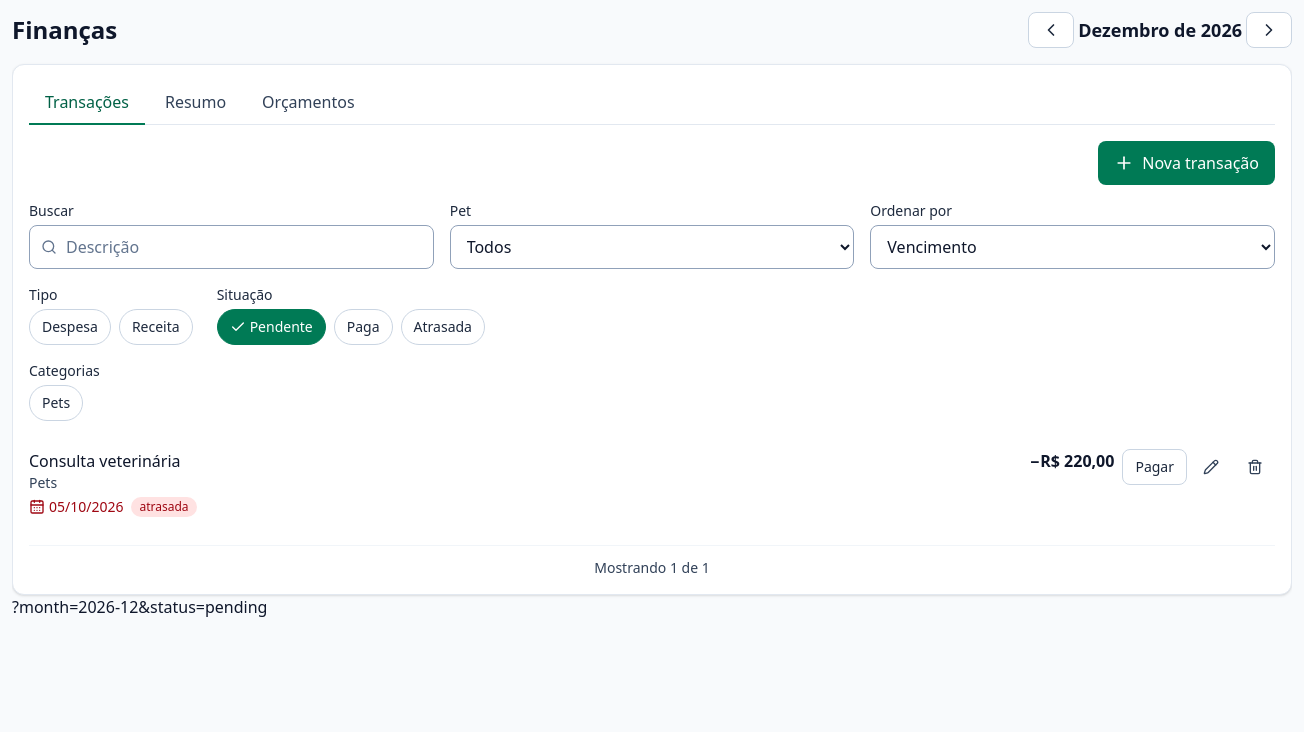
Scenario: FinancePage › changing the month updates the URL and the query
This screenshot has width=1304, height=732.
Check: the text "Dezembro de 2026" is shown, box [1078,16,1242,44]
Click the button named "Próximo mês" at [1269, 30], box [1246,12,1292,48]
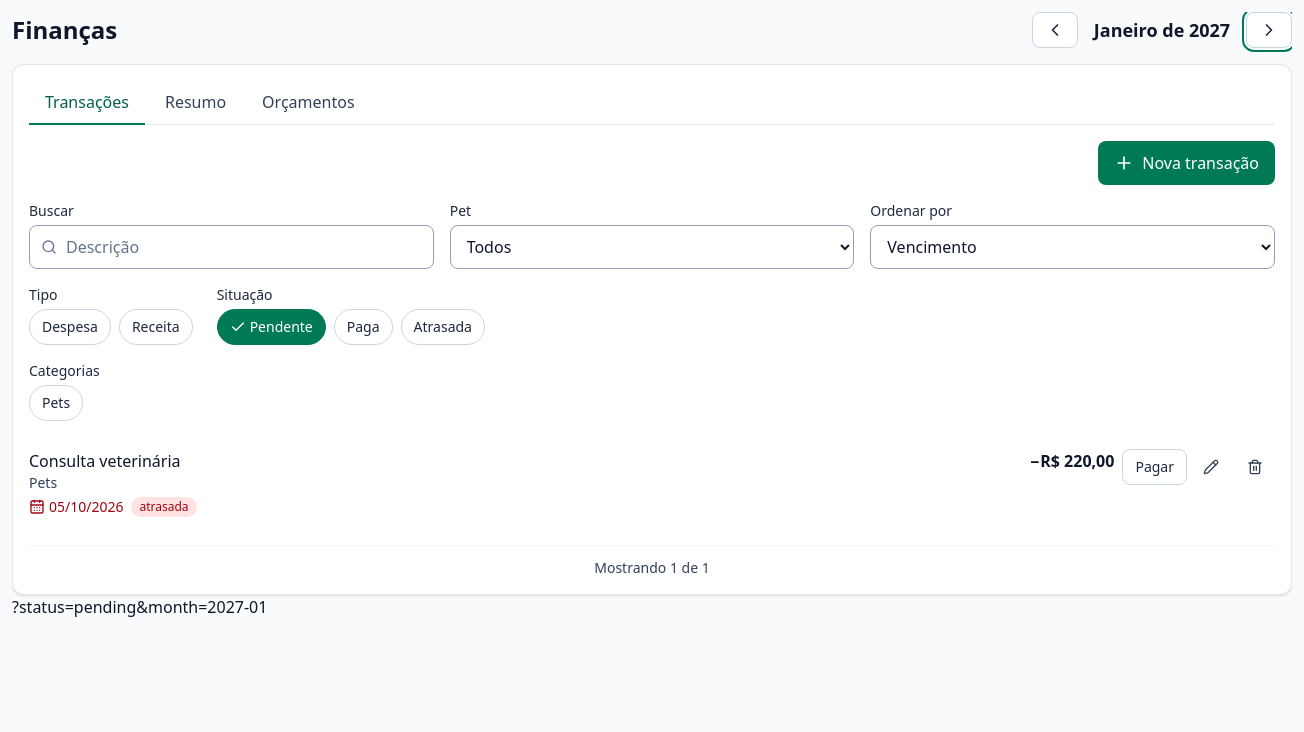
Check: the text "Janeiro de 2027" is shown, box [1082,16,1242,44]
Check: the text with test id "location" shows "month=2027-01", box [12,596,267,618]
